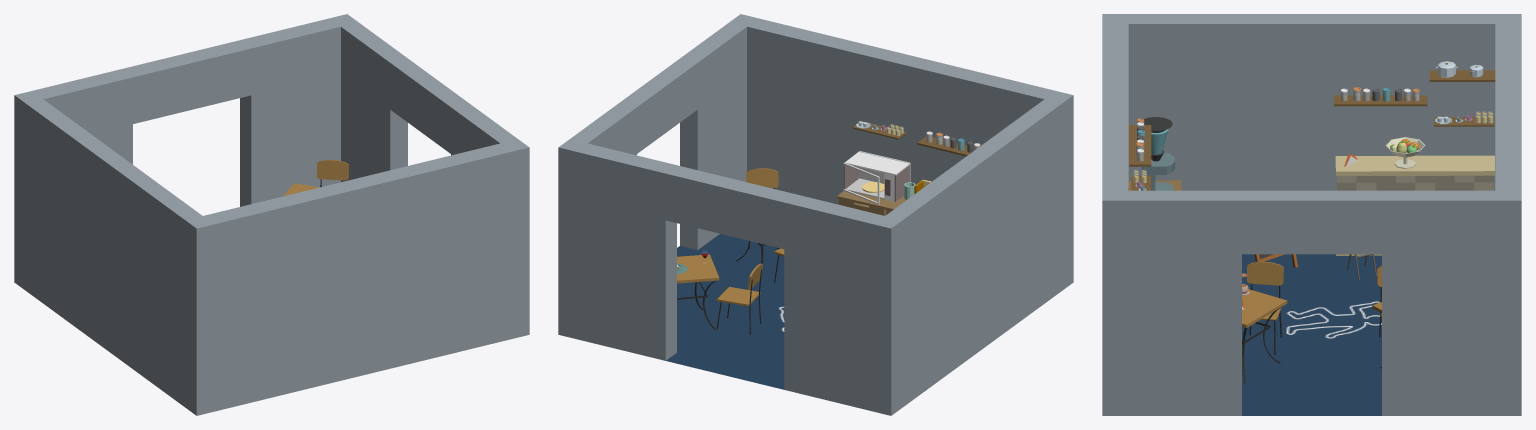
Rendered from Room_Cafeteria.fbx.
3 views of the same model, side by side, from view 1: azimuth 30°, elevation 25°; view 2: azimuth 150°, elevation 25°; view 3: azimuth 270°, elevation 25° (orthographic). The views are drawn at different scales.
Visible parts, largest first — view 1: Paredes, chair_02; view 2: Paredes, cylinder.068, table_01, chair_01, box.128, chair_04; view 3: Paredes, box.187, box.188, cylinder.064, table__2, chair_03, box.190, sphere.123, polySurface11, polySurface9, polySurface23, box.255.
Boxes of the visible parts, box(x1,y1,x2,y2) form: Paredes: box(14, 14, 529, 415); chair_02: box(316, 159, 348, 187); Paredes: box(558, 14, 1073, 415); cylinder.068: box(844, 151, 910, 204); table_01: box(677, 254, 719, 330); chair_01: box(715, 263, 763, 334); box.128: box(837, 191, 906, 215); chair_04: box(746, 168, 778, 248); Paredes: box(1102, 14, 1521, 415); box.187: box(1335, 155, 1494, 255); box.188: box(1337, 175, 1493, 190); cylinder.064: box(1142, 117, 1174, 190); table__2: box(1242, 289, 1287, 383); chair_03: box(1244, 261, 1283, 354); box.190: box(1337, 175, 1493, 190); sphere.123: box(1386, 137, 1425, 168); polySurface11: box(1429, 70, 1495, 79); polySurface9: box(1357, 95, 1427, 104); polySurface23: box(1129, 125, 1151, 154); box.255: box(1434, 117, 1494, 126).
Size of the model in its own units: 15.81 by 8.62 by 15.
Materials: 337 (1 with a texture image).
